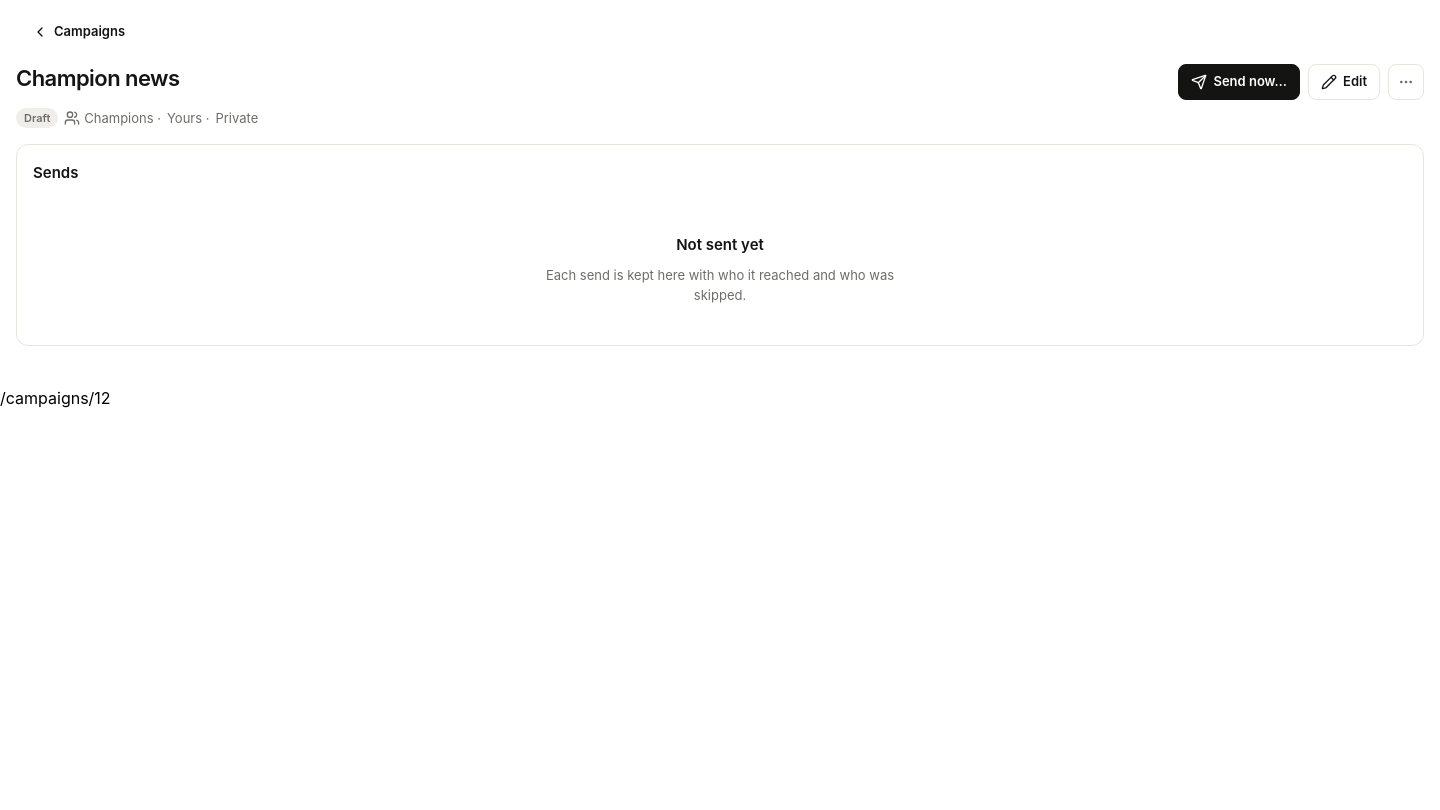
Test case: Send now… on a campaign page (spec §2.3) › counts again, sends once, and opens the new send with the campaign now active
Click the button "Send now…": (1239, 82) left=1178, top=64, right=1300, bottom=100
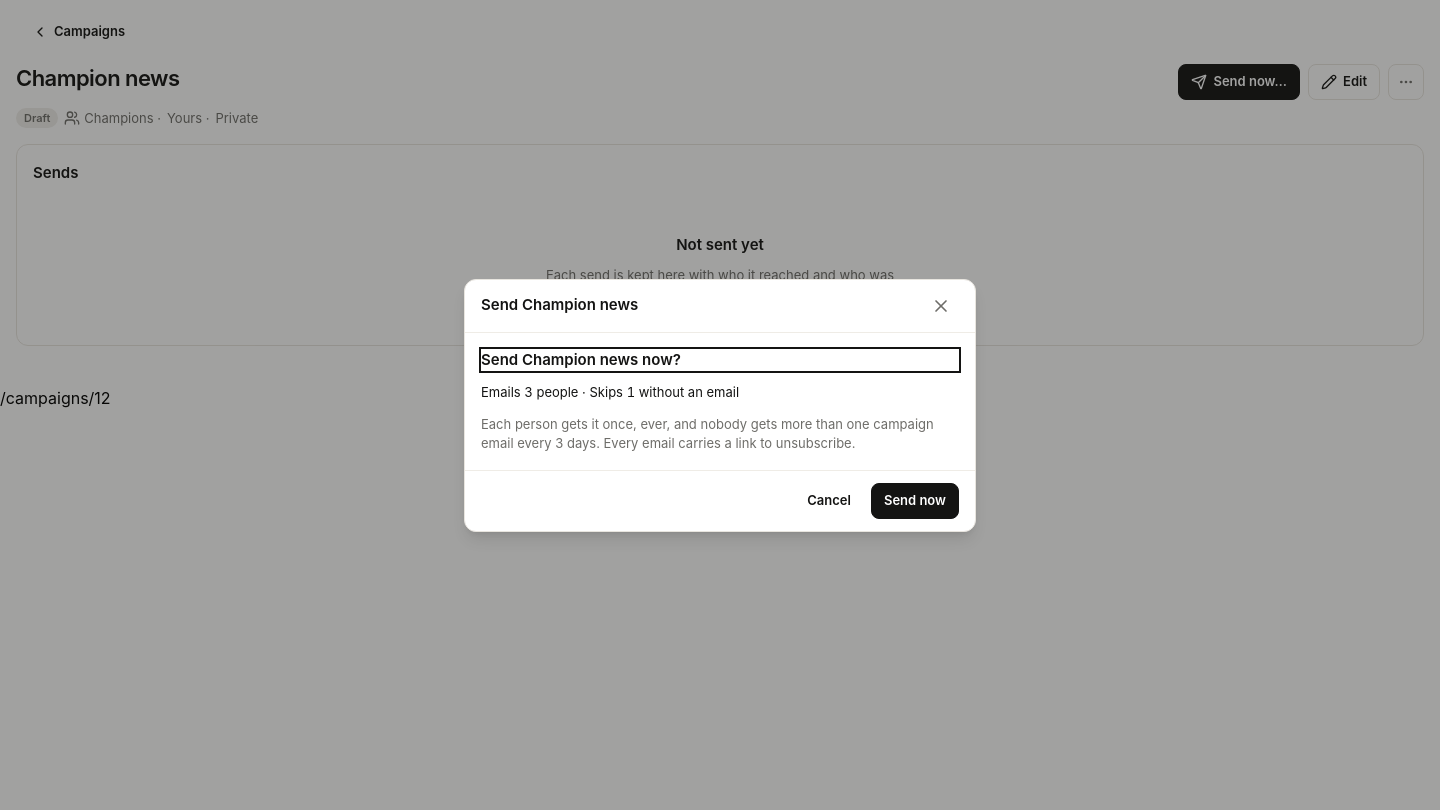
Result: the element showing "Emails 3 people · Skips 1 without an email" is shown at left=481, top=384, right=739, bottom=400
Double-click the button "Send now": (915, 500) left=871, top=482, right=959, bottom=518
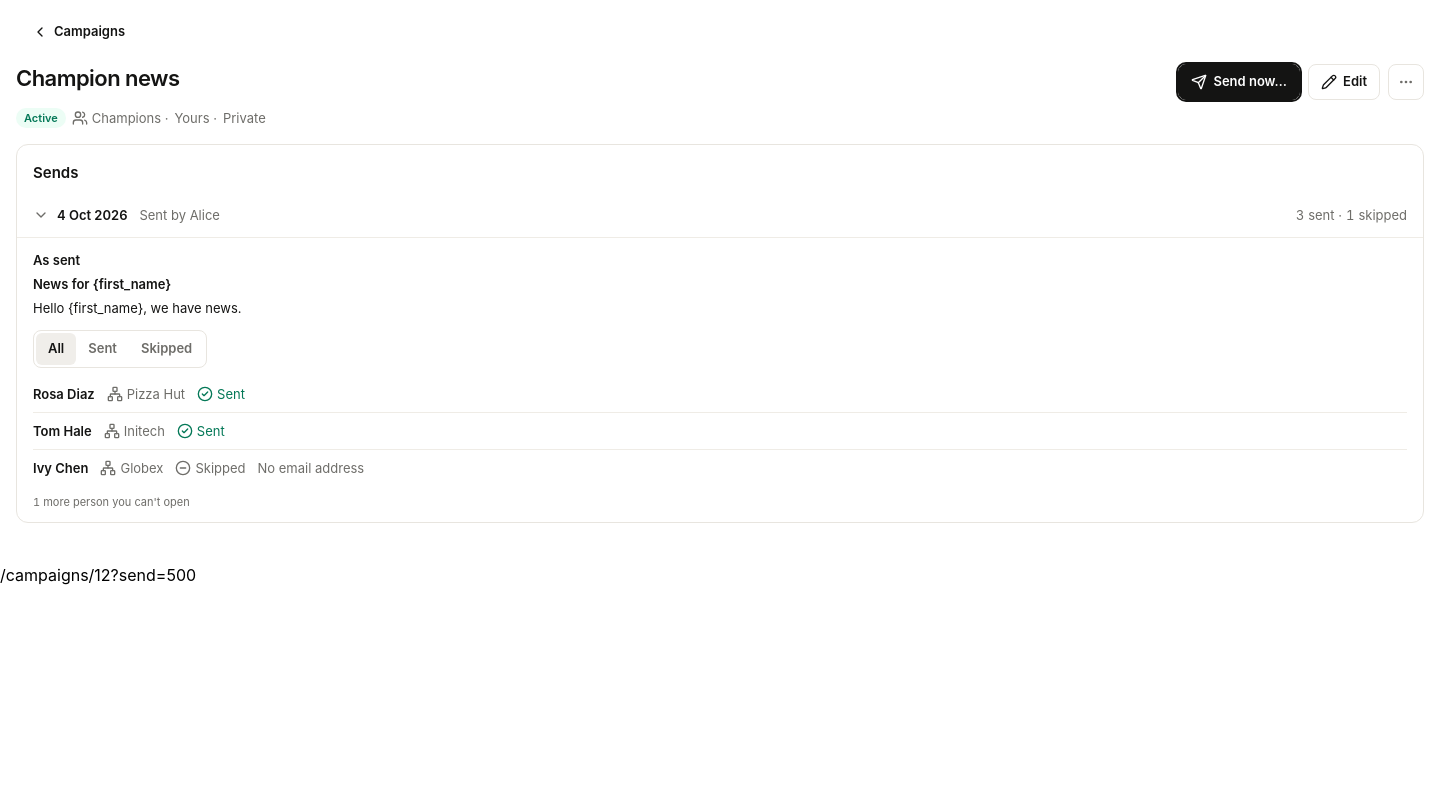
Result: the text with test id "where" reads "/campaigns/12?send=500" at left=0, top=565, right=196, bottom=585
Result: the dialog is gone
Result: the element showing "Active Champions · Yours · Private" is shown at left=16, top=108, right=266, bottom=136
